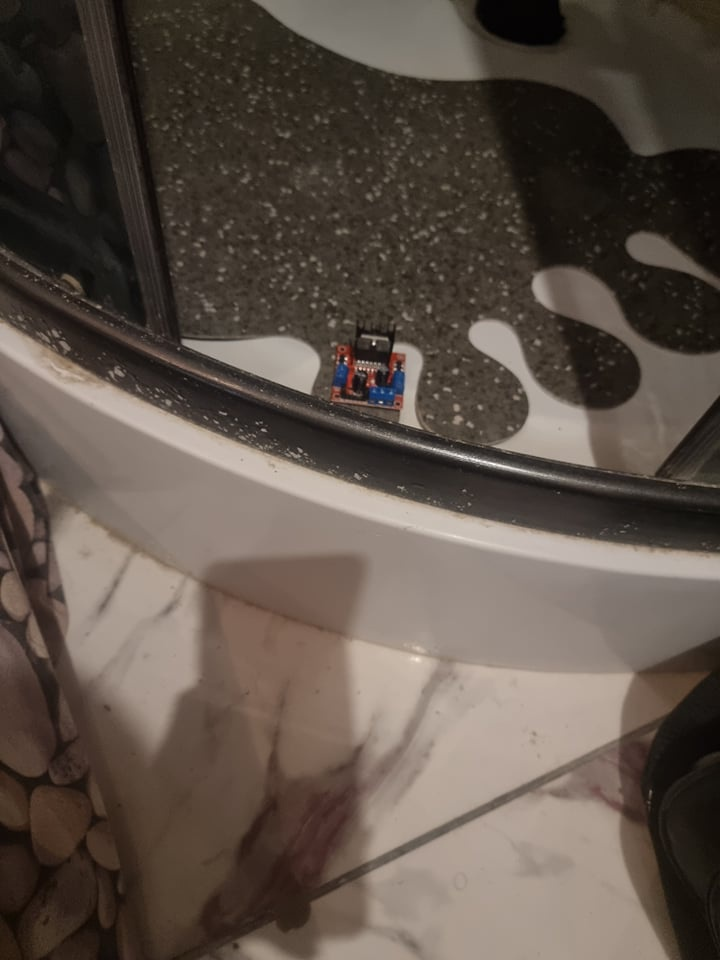MOTOR: (329, 319, 407, 411)
